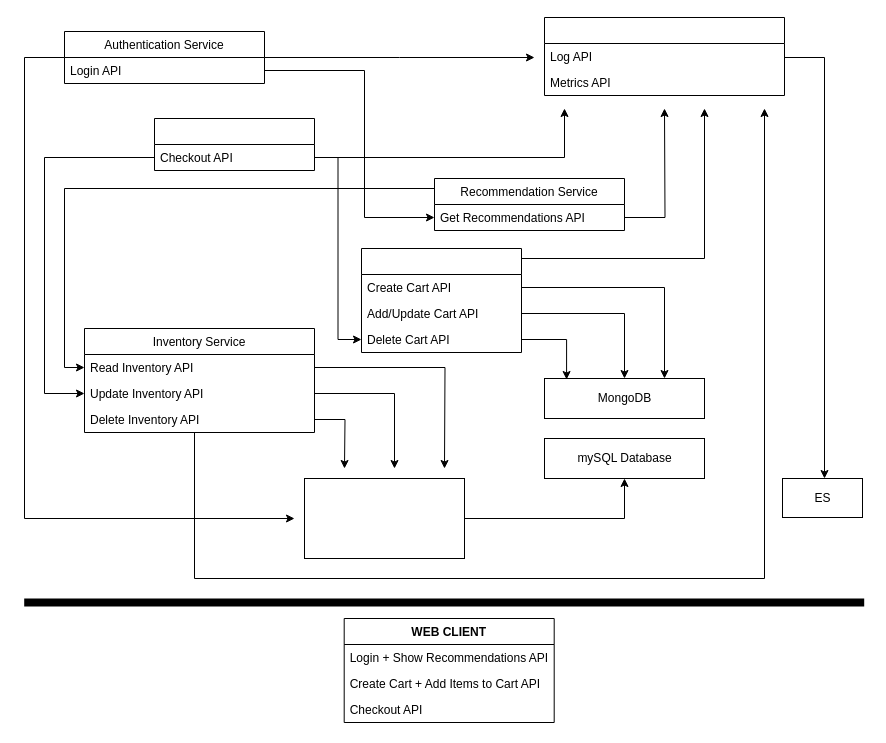
This 886x743 diagram has some shape labels left out. The shapes that lost their labels are listed below. From the top down, each one's box as (x1, y1, x2, y2) in pixels, then its label:
(544, 16, 784, 96): Analytics Service
(154, 118, 314, 170): Payment Service
(360, 248, 522, 352): Cart Management Service
(304, 478, 464, 558): Database Service
